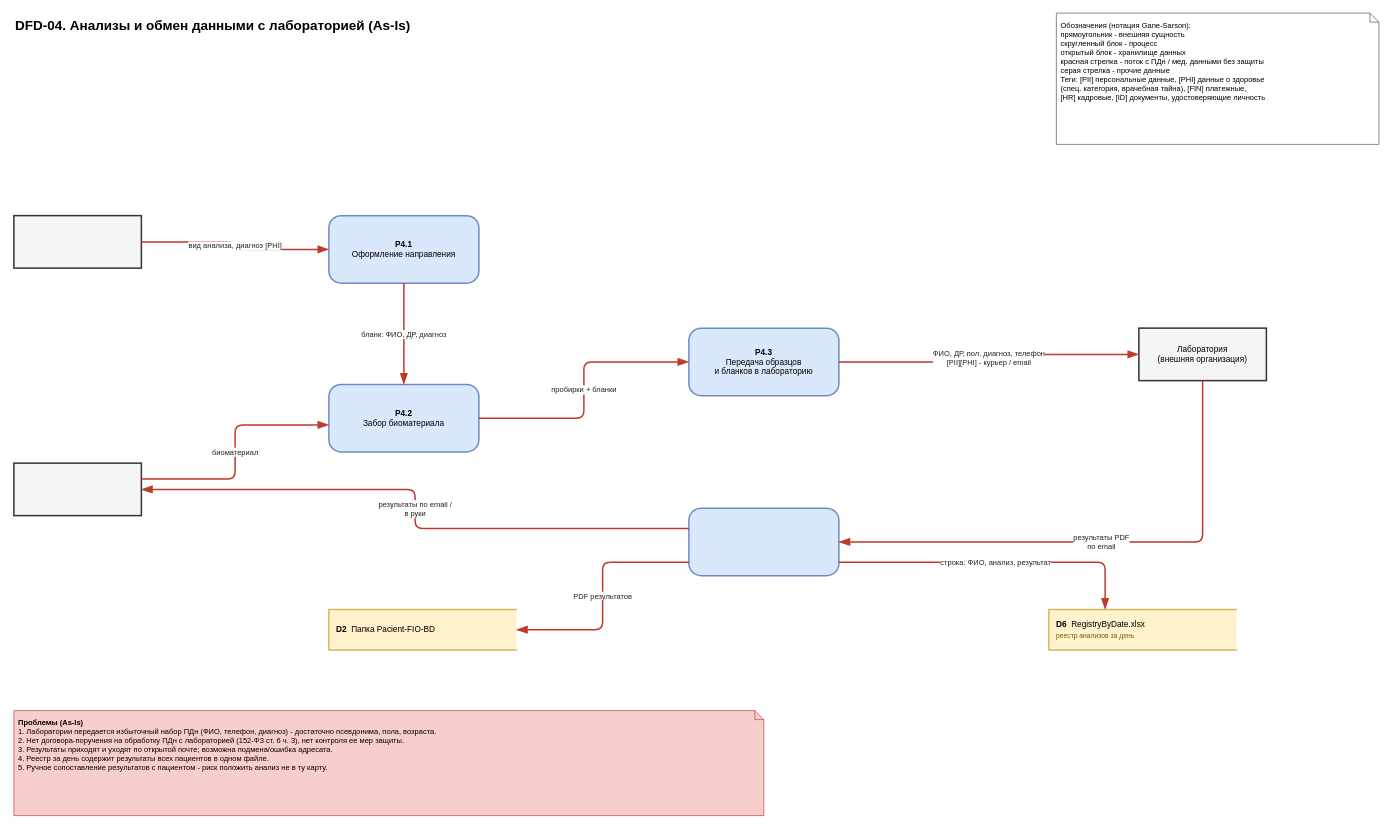
The diagram is 1392 pixels wide and 829 high, and some of its shapes have lost their labels. Here are the shapes that lost their labels. From the top down, the box of each, then its label:
(13, 214, 142, 268): Врач
(13, 462, 142, 516): Пациент
(688, 507, 839, 576): P4.4 Прием и раскладка результатов
